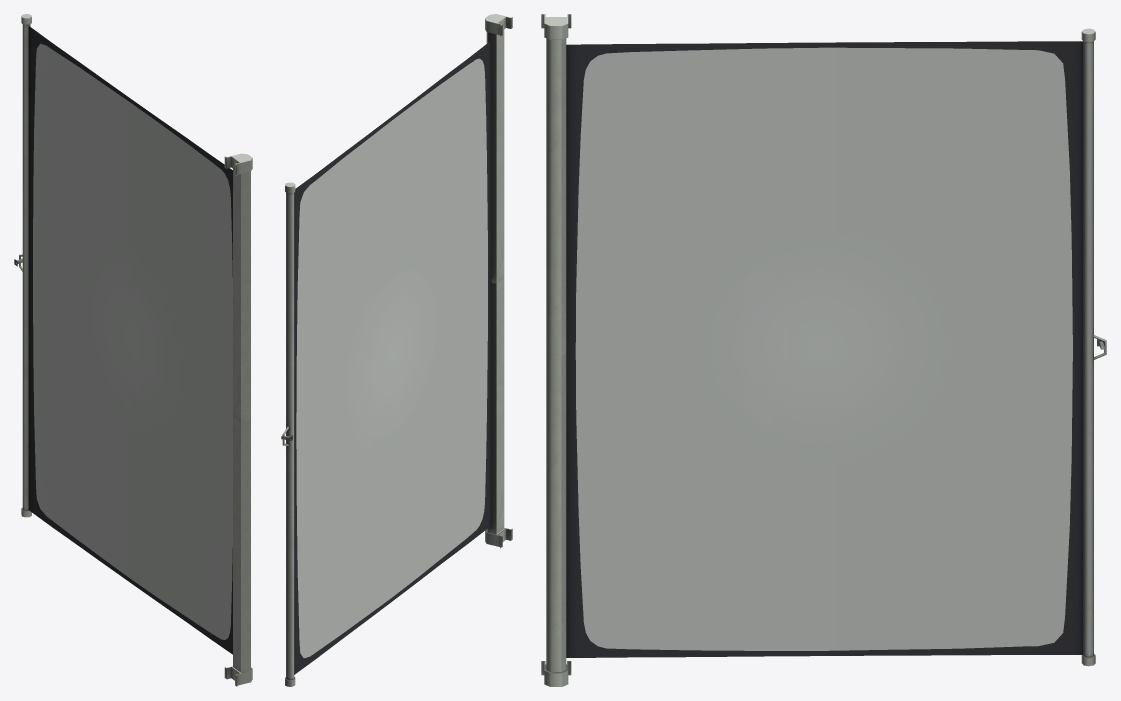
Rendered from ProjectorScreen.obj.
The picture shows the model from 3 angles, left to right: view 1: azimuth 30°, elevation 25°; view 2: azimuth 150°, elevation 25°; view 3: azimuth 270°, elevation 25°; orthographic projection. The views are drawn at different scales.
Parts seen in each view (by area): view 1: dmx/projector_screen_reference.dmx.001; view 2: dmx/projector_screen_reference.dmx.001; view 3: dmx/projector_screen_reference.dmx.001.
Boxes of the visible parts, x1,y1,x2,y2 form: dmx/projector_screen_reference.dmx.001: (14,14,252,686); dmx/projector_screen_reference.dmx.001: (281,14,512,686); dmx/projector_screen_reference.dmx.001: (541,14,1106,686).
Bounding box in the file's own units: 0.1343 × 3.42 × 2.65.
